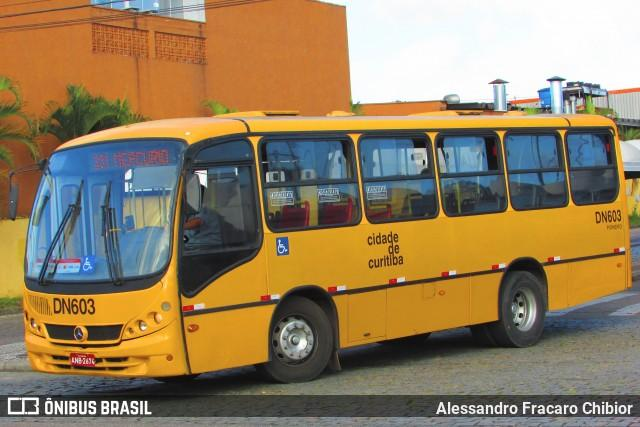MERCURIO: (111, 147, 172, 170)
